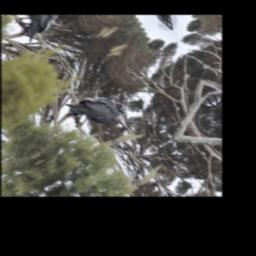Crow: (58, 82, 128, 139)
